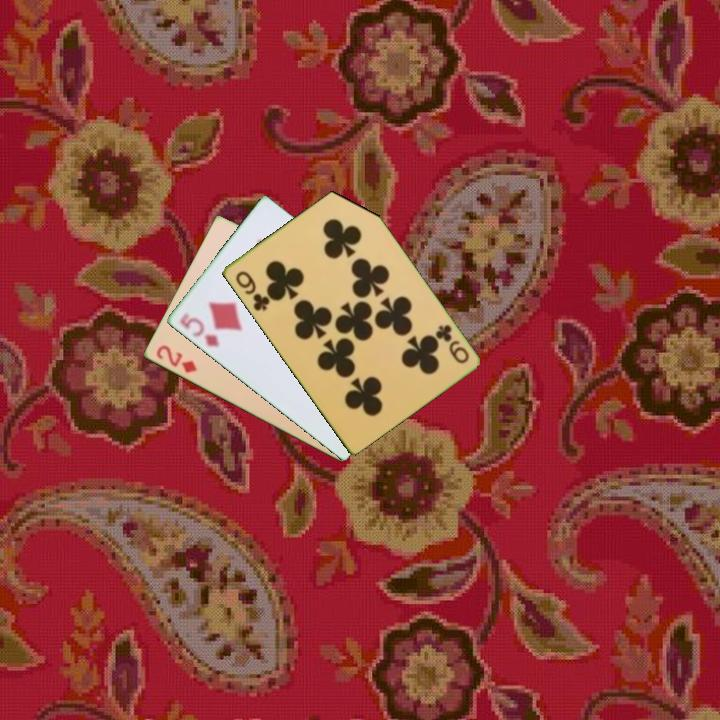2d: (152, 342, 199, 376)
5d: (175, 309, 222, 350)
9c: (231, 267, 273, 314), (431, 321, 472, 367)
